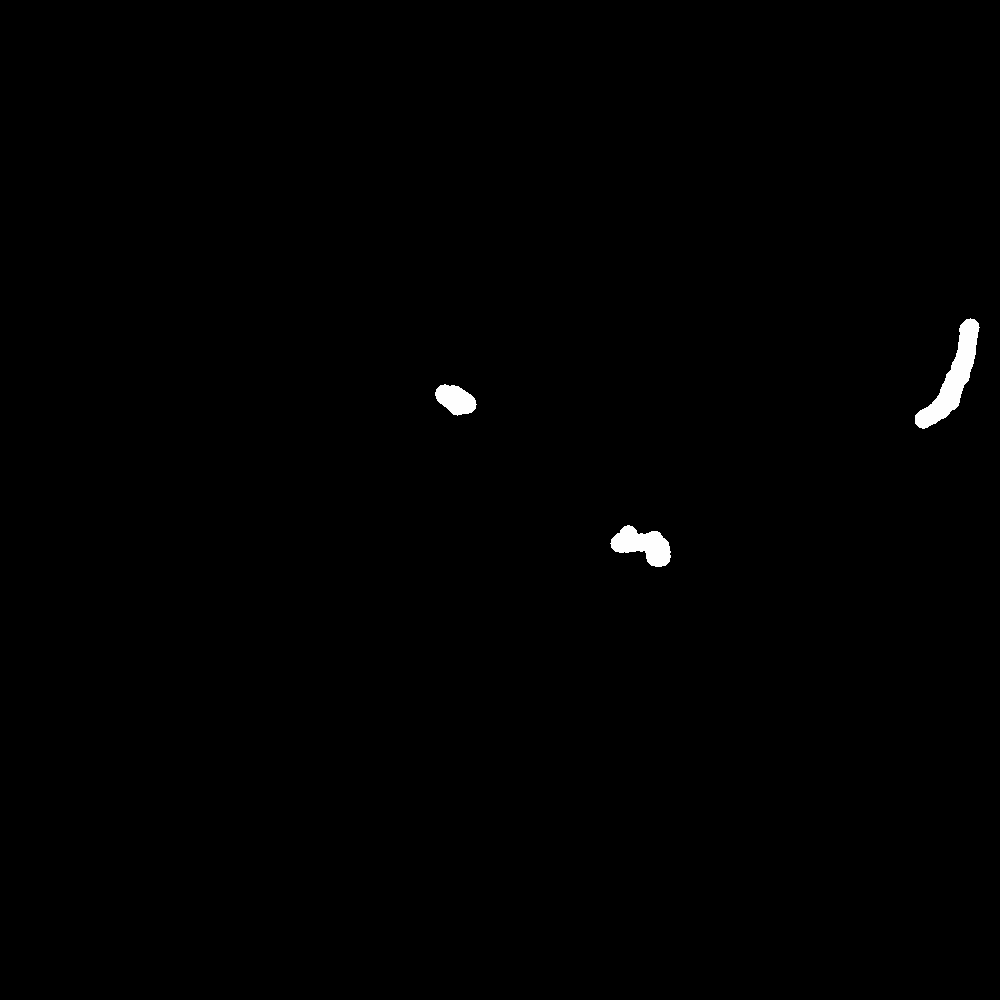illegal: (608, 527, 686, 564)
